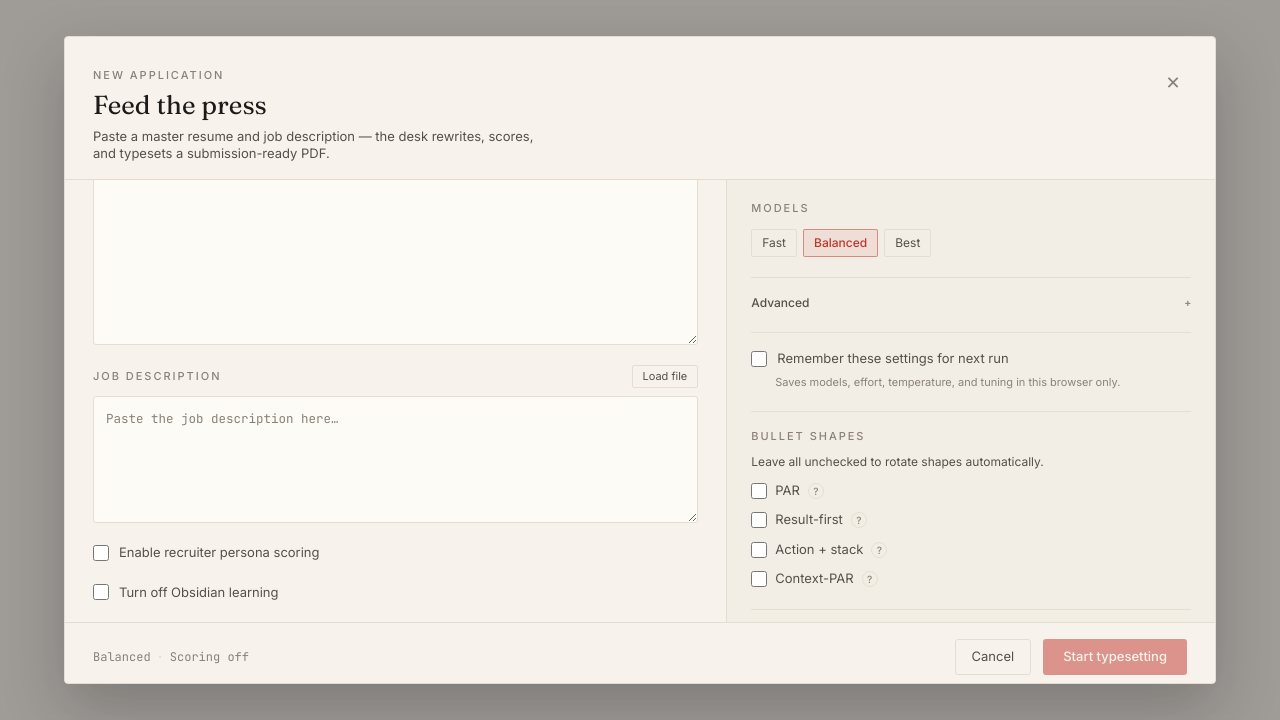
Test: NewJobModal › shows a footer summary of preset and scoring
(page scrolled)
Expected: the element named "model presets" is shown, [751, 229, 931, 257]
Expected: the element with test id "config-summary" shows "Balanced", [93, 649, 151, 665]
Click the checkbox labelled "Enable recruiter persona scoring" at (101, 553), box [93, 545, 109, 561]
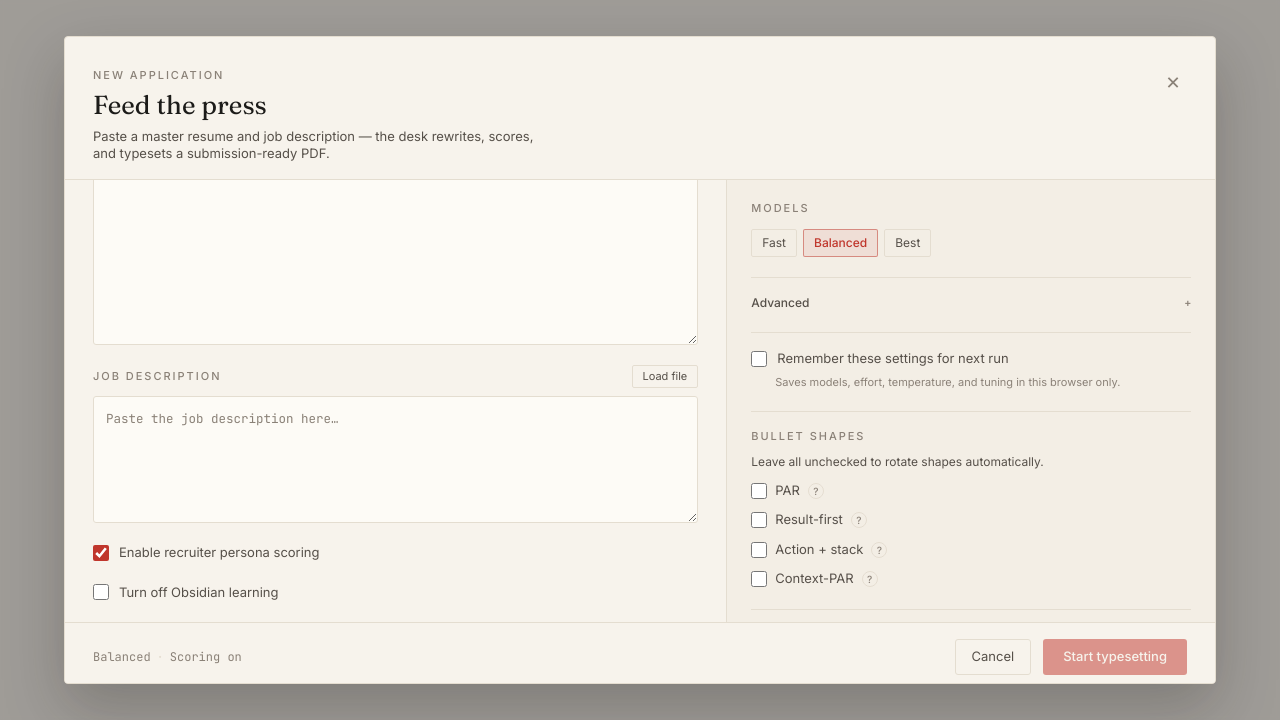
Result: the element with test id "config-summary" shows "Scoring on" at [93, 648, 242, 666]
